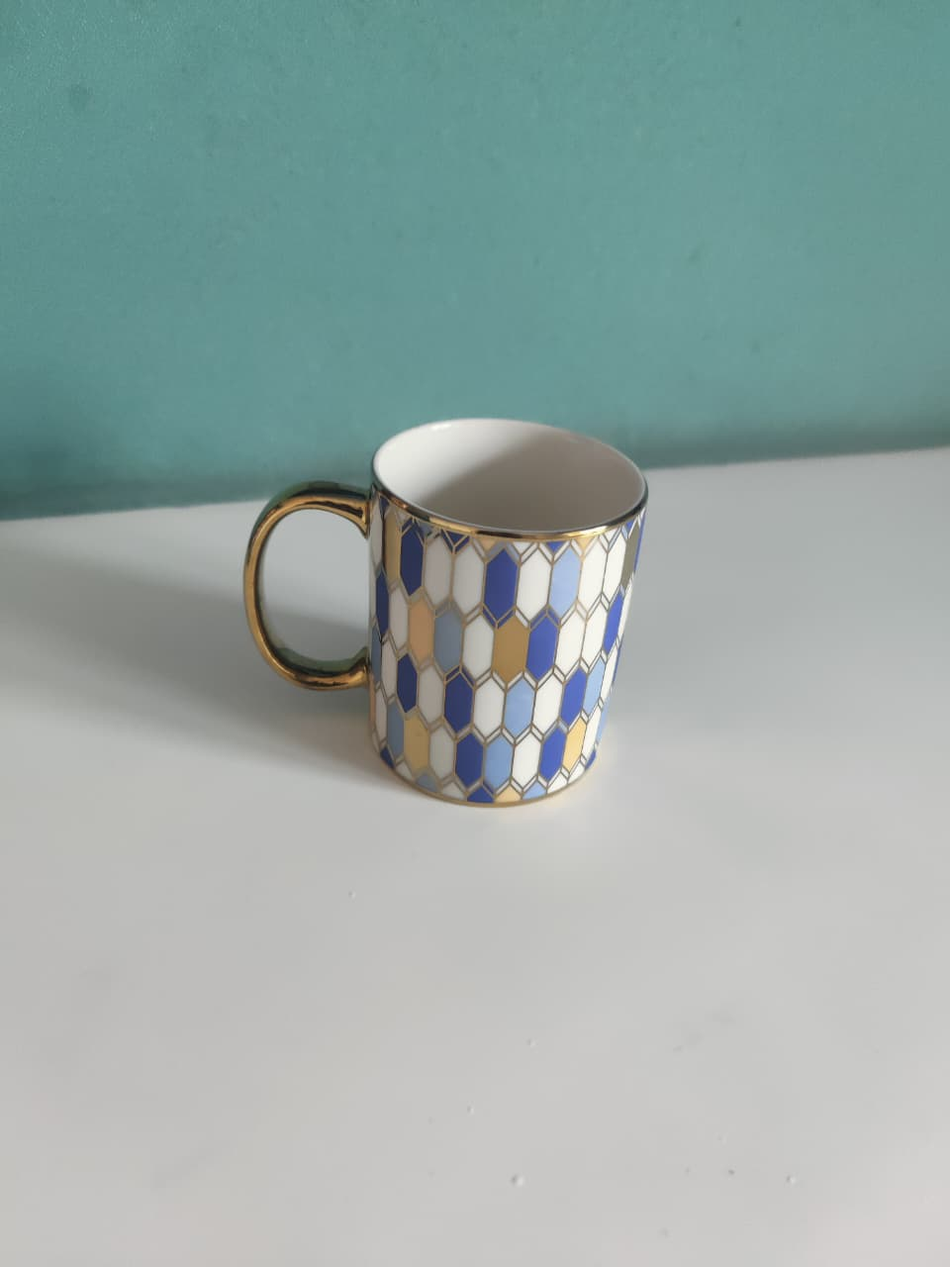cup: (242, 415, 654, 804)
